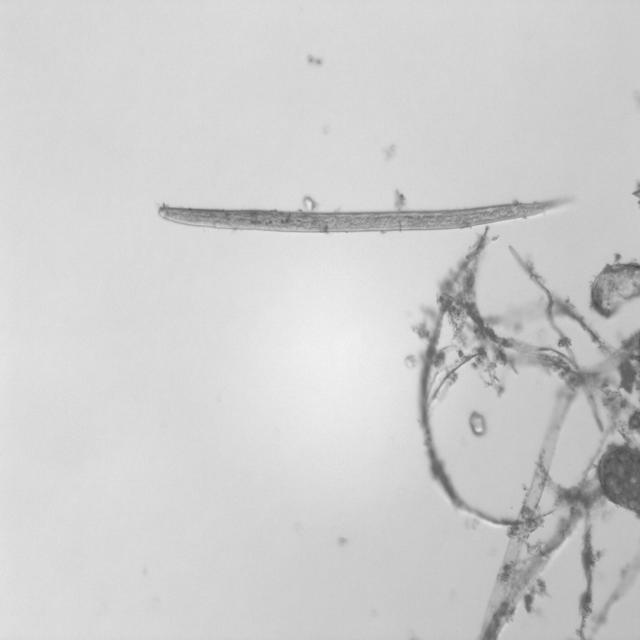Meloidogyne: (146, 188, 592, 236)
